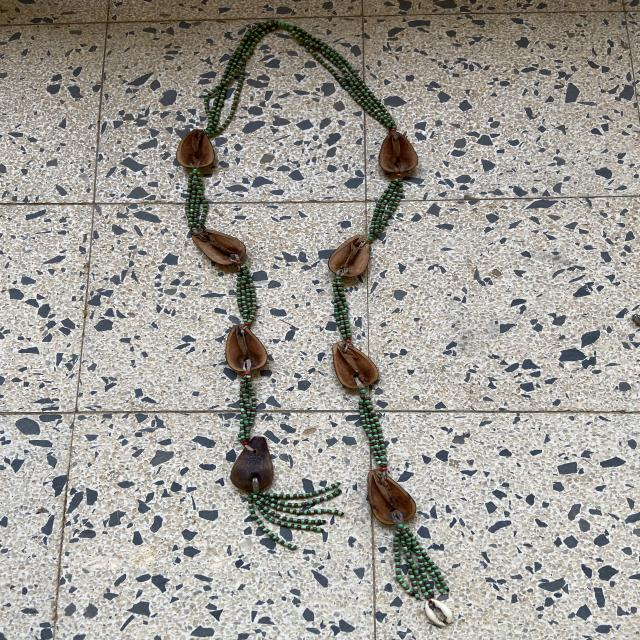facedown: (228, 433, 281, 497)
faceup: (358, 468, 424, 528), (326, 340, 384, 393), (186, 226, 254, 271), (223, 321, 271, 377), (375, 125, 422, 182), (324, 230, 376, 280), (172, 124, 218, 172)
